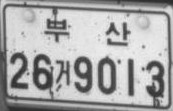0: (96, 56, 117, 95)
1: (121, 58, 141, 97)
2: (9, 51, 28, 89)
3: (145, 59, 165, 97)
6: (32, 52, 53, 90)
9: (72, 55, 93, 94)
거: (54, 58, 70, 86)
부산_D: (43, 17, 131, 46)
